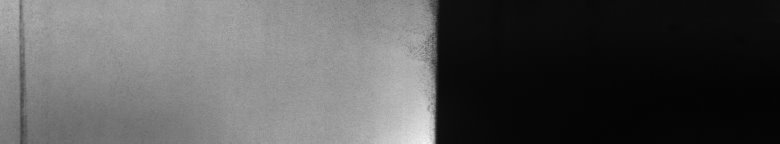hd: (12, 4, 32, 136)
